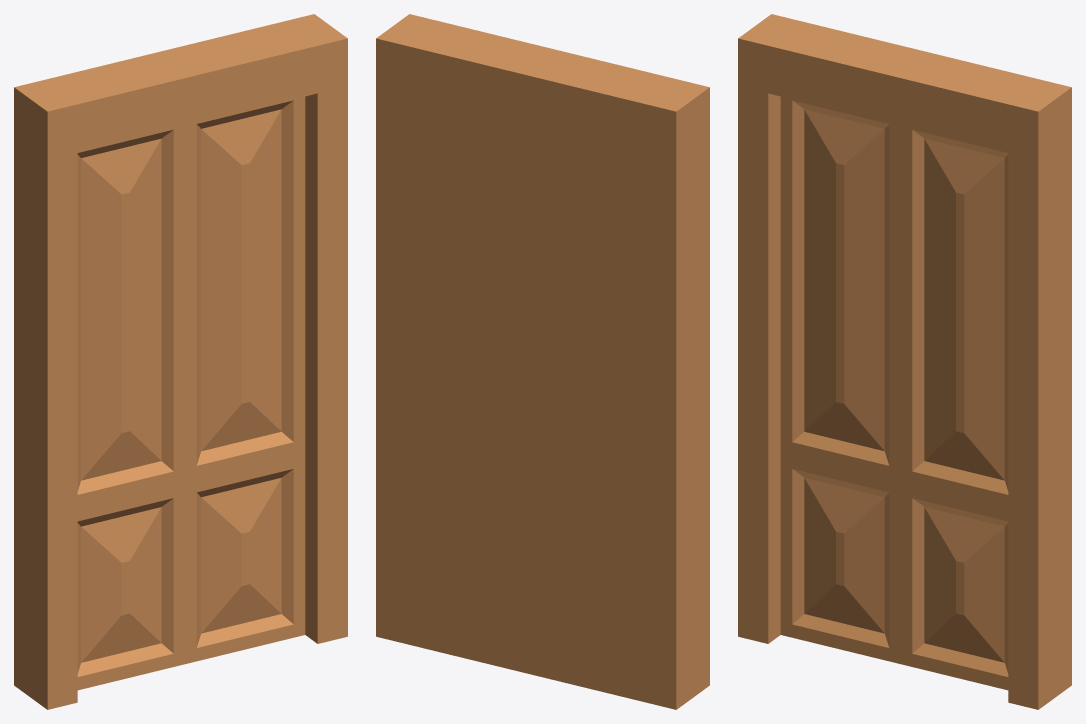
Rendered from DoorType2Cadre.fbx.
The picture shows the model from 3 angles, left to right: view 1: azimuth 30°, elevation 25°; view 2: azimuth 150°, elevation 25°; view 3: azimuth 330°, elevation 25°; orthographic projection.
Visible parts, largest first — view 1: DoorType2Cadre; view 2: DoorType2Cadre; view 3: DoorType2Cadre.
Boxes of the visible parts, x1,y1,x2,y2 form: DoorType2Cadre: (14,14,347,709); DoorType2Cadre: (376,14,709,709); DoorType2Cadre: (738,14,1071,709).
Size of the model in its own units: 1.66 by 0.319 by 3.15.
